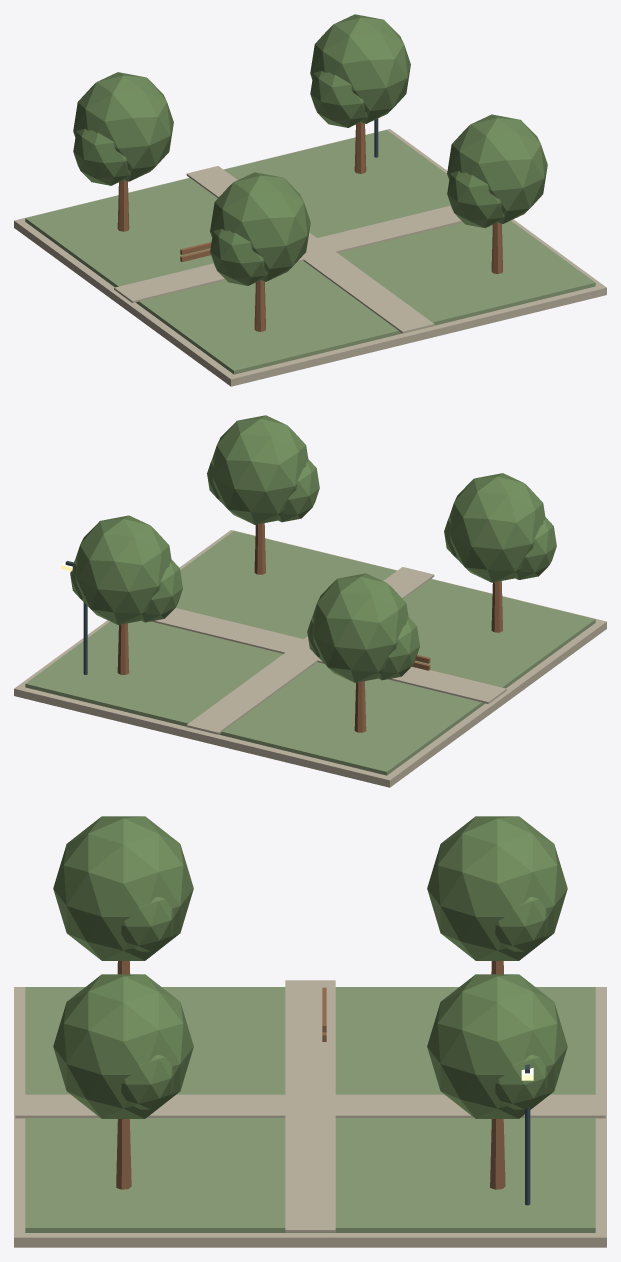
Rendered from grove_lod.glb.
3 renders of one model, top to bottom at view 1: azimuth 30°, elevation 25°; view 2: azimuth 150°, elevation 25°; view 3: azimuth 270°, elevation 25°, orthographic. The views are drawn at different scales.
Visible parts, largest first — view 1: grove_Garden_Lawn, grove_Site_Paving, grove_Tree_Crown.003, grove_Tree_Crown.006, grove_Tree_Crown.009, grove_Tree_Crown, grove_Garden_Walk_X, grove_Garden_Walk_Z, grove_Tree_Crown.010, grove_Tree_Crown.007, grove_Tree_Crown.001, grove_Tree_Crown.004 (+4 smaller); view 2: grove_Garden_Lawn, grove_Site_Paving, grove_Tree_Crown.006, grove_Tree_Crown.003, grove_Tree_Crown.009, grove_Tree_Crown, grove_Garden_Walk_Z, grove_Garden_Walk_X, grove_Tree_Crown.004, grove_Tree_Crown.007, grove_Tree_Crown.001, grove_Tree_Crown.010 (+4 smaller); view 3: grove_Garden_Lawn, grove_Site_Paving, grove_Tree_Crown, grove_Tree_Crown.003, grove_Tree_Crown.006, grove_Tree_Crown.009, grove_Garden_Walk_X, grove_Garden_Walk_Z, grove_Tree_Crown.002, grove_Tree_Crown.008, grove_Tree_Crown.005, grove_Tree_Crown.011 (+3 smaller).
Boxes of the visible parts, left/top/right/bottom form: grove_Garden_Lawn: left=25, top=130, right=595, bottom=374; grove_Site_Paving: left=14, top=129, right=606, bottom=386; grove_Tree_Crown.003: left=447, top=114, right=547, bottom=223; grove_Tree_Crown.006: left=210, top=172, right=310, bottom=281; grove_Tree_Crown.009: left=310, top=14, right=410, bottom=123; grove_Tree_Crown: left=73, top=72, right=173, bottom=181; grove_Garden_Walk_X: left=114, top=205, right=462, bottom=302; grove_Garden_Walk_Z: left=186, top=166, right=434, bottom=333; grove_Tree_Crown.010: left=310, top=70, right=367, bottom=127; grove_Tree_Crown.007: left=210, top=228, right=267, bottom=285; grove_Tree_Crown.001: left=73, top=128, right=130, bottom=185; grove_Tree_Crown.004: left=447, top=171, right=504, bottom=227; grove_Garden_Lawn: left=25, top=531, right=595, bottom=775; grove_Site_Paving: left=14, top=530, right=606, bottom=787; grove_Tree_Crown.006: left=449, top=473, right=545, bottom=582; grove_Tree_Crown.003: left=212, top=415, right=308, bottom=524; grove_Tree_Crown.009: left=75, top=515, right=171, bottom=624; grove_Tree_Crown: left=312, top=573, right=408, bottom=682; grove_Garden_Walk_Z: left=186, top=567, right=434, bottom=734; grove_Garden_Walk_X: left=151, top=608, right=506, bottom=703; grove_Tree_Crown.004: left=276, top=459, right=319, bottom=522; grove_Tree_Crown.007: left=514, top=517, right=556, bottom=579; grove_Tree_Crown.001: left=377, top=617, right=419, bottom=680; grove_Tree_Crown.010: left=140, top=560, right=182, bottom=622; grove_Garden_Lawn: left=25, top=987, right=595, bottom=1232; grove_Site_Paving: left=14, top=987, right=606, bottom=1247; grove_Tree_Crown: left=427, top=816, right=567, bottom=960; grove_Tree_Crown.003: left=53, top=974, right=193, bottom=1118; grove_Tree_Crown.006: left=53, top=816, right=193, bottom=960; grove_Tree_Crown.009: left=427, top=974, right=567, bottom=1118; grove_Garden_Walk_X: left=285, top=980, right=335, bottom=1232; grove_Garden_Walk_Z: left=15, top=1094, right=605, bottom=1118; grove_Tree_Crown.002: left=495, top=897, right=547, bottom=951; grove_Tree_Crown.008: left=121, top=897, right=173, bottom=951; grove_Tree_Crown.005: left=121, top=1055, right=173, bottom=1109; grove_Tree_Crown.011: left=495, top=1055, right=547, bottom=1109.
Bounding box in the file's own units: 11.8 × 4.94 × 11.8.
